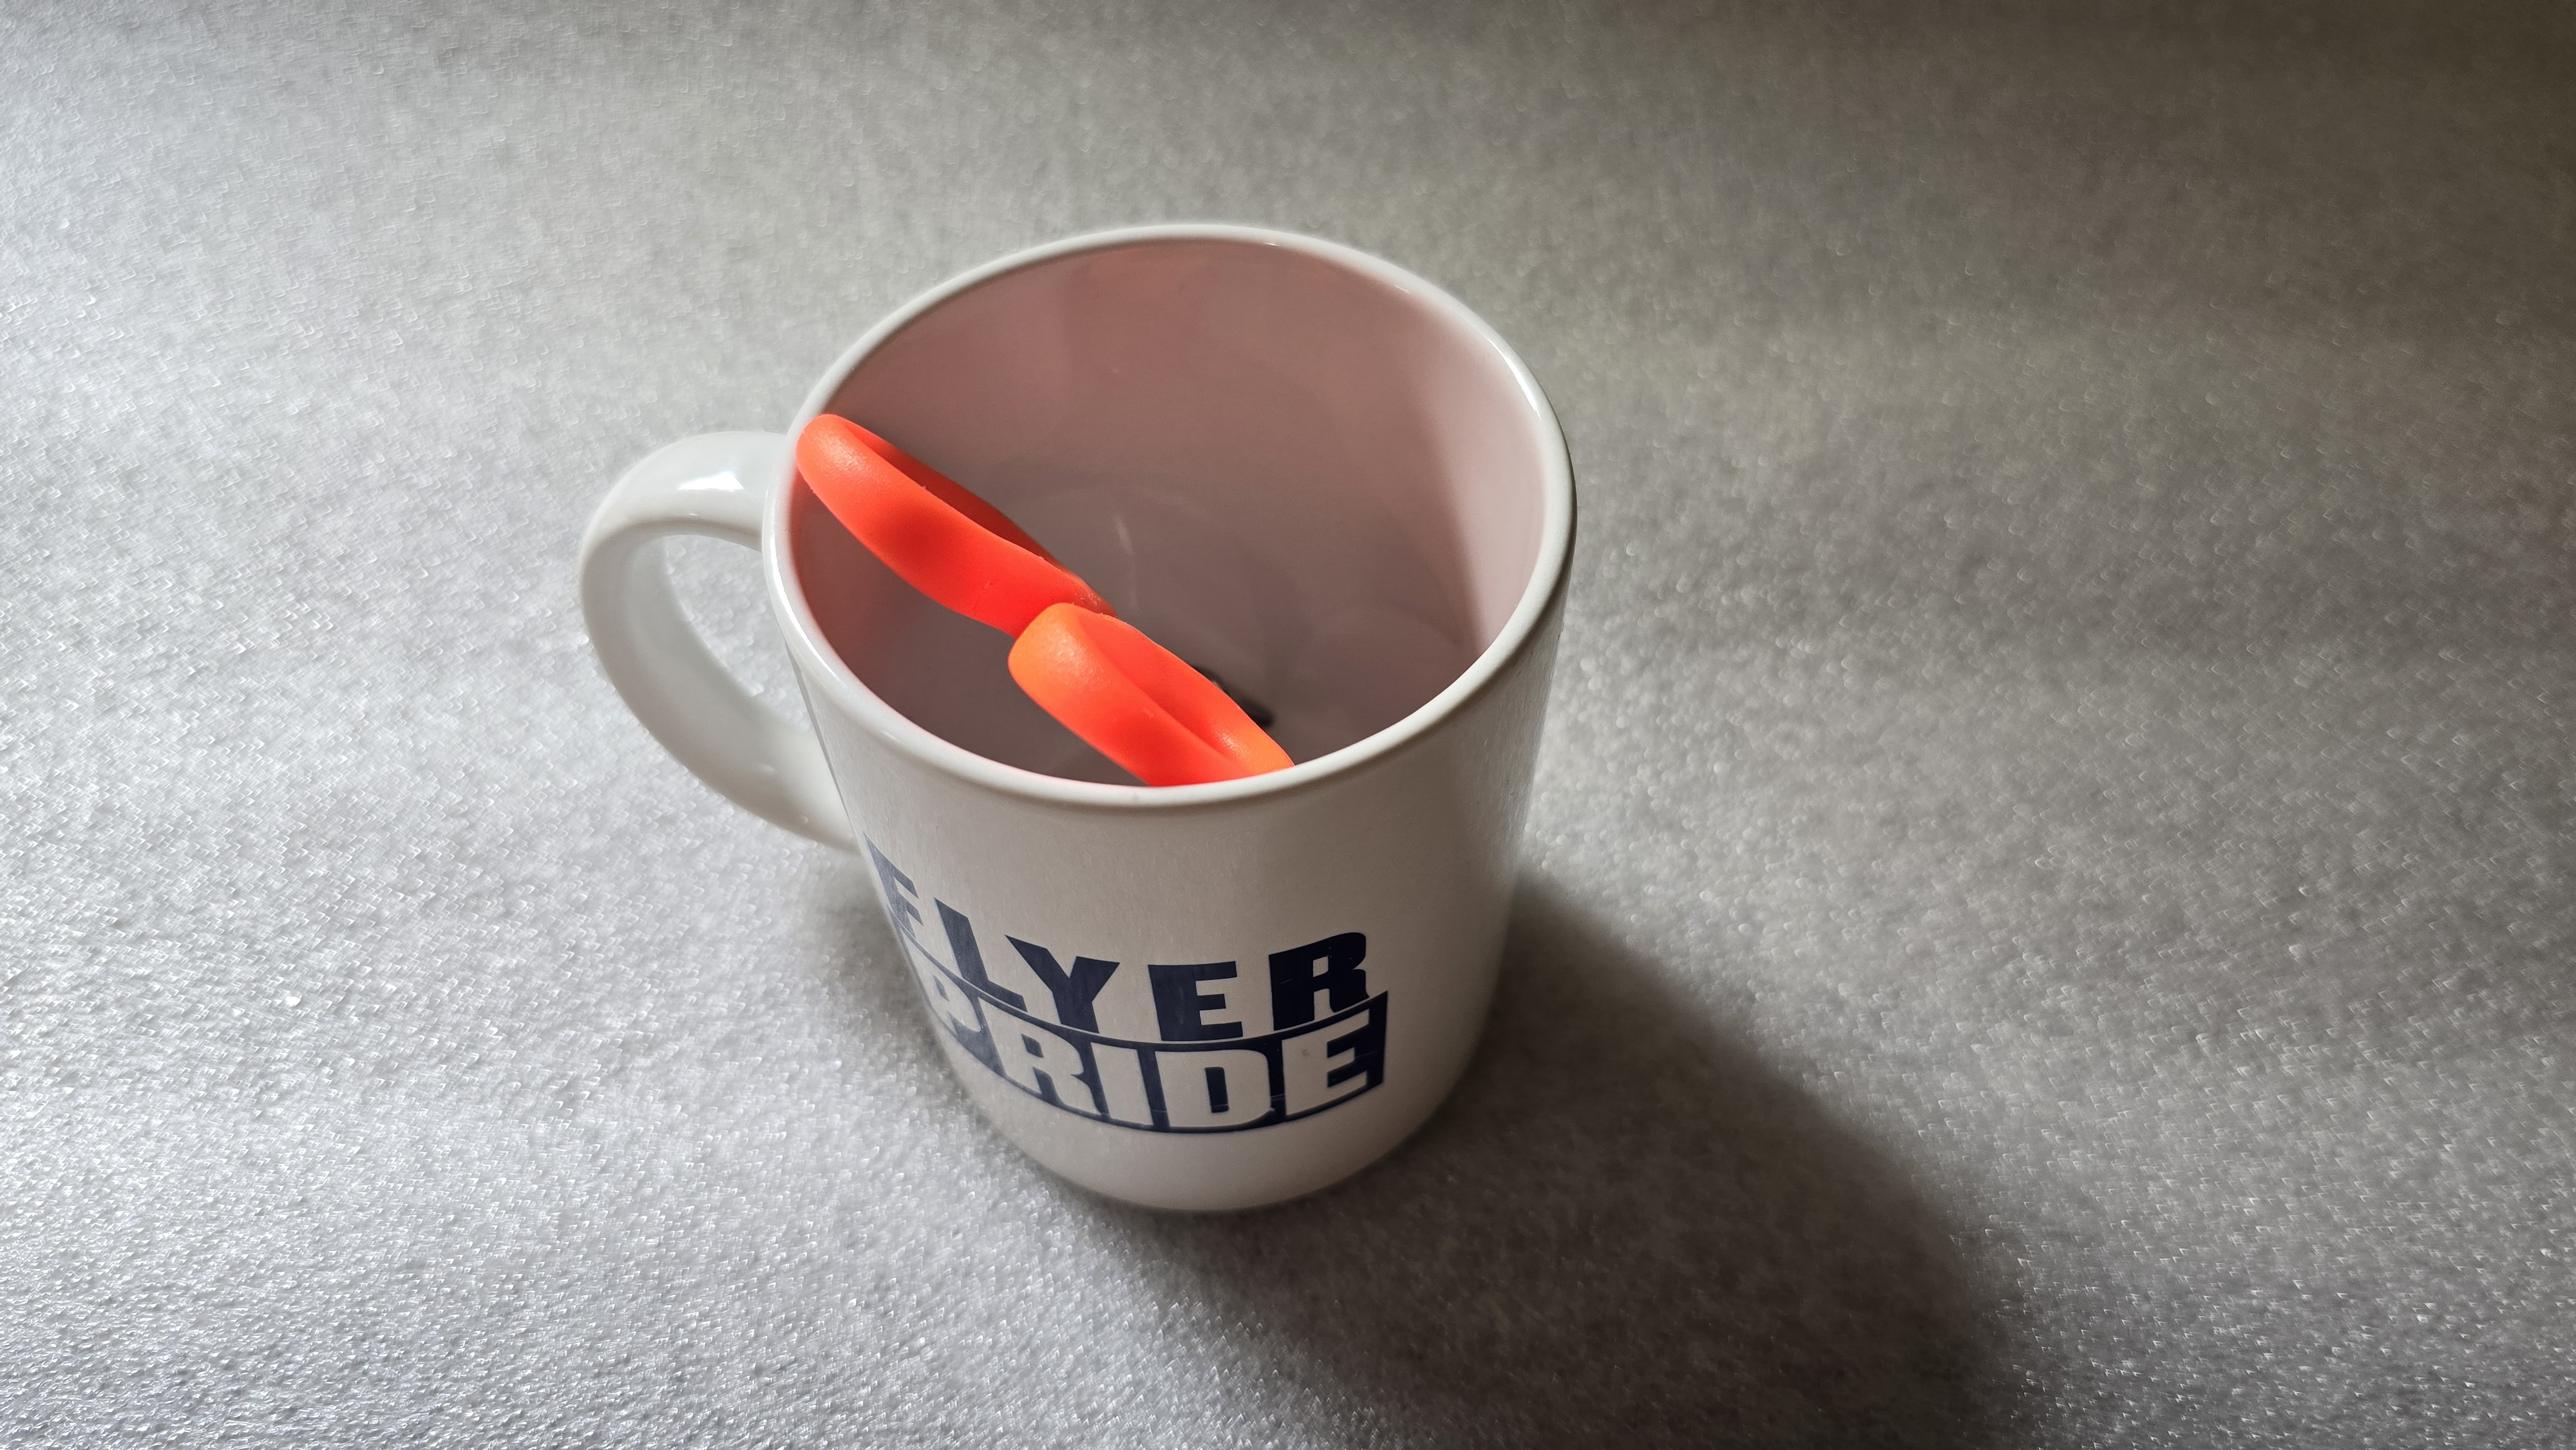mug: (554, 203, 1674, 1229)
